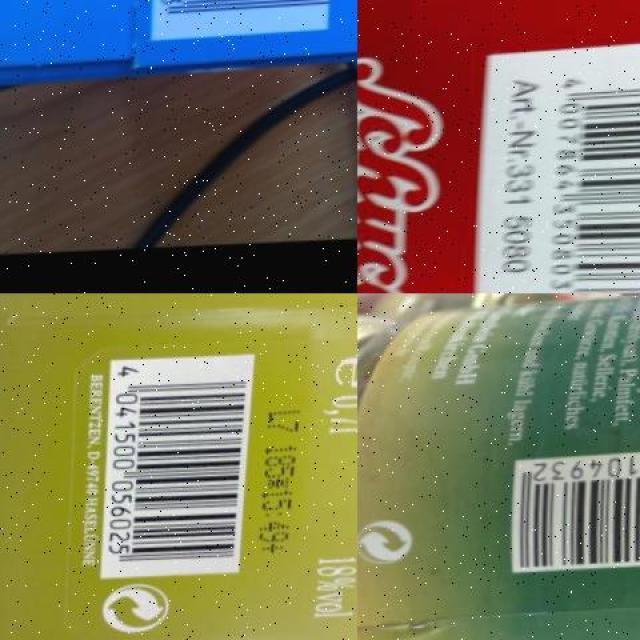Barcode: (474, 37, 640, 293), (102, 357, 255, 583), (513, 444, 640, 576)
